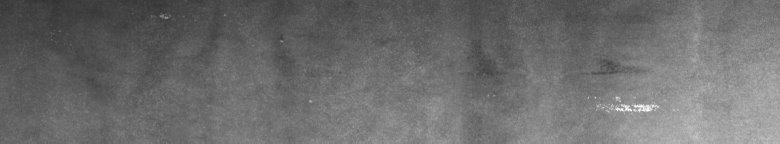hc: (586, 60, 666, 116)
